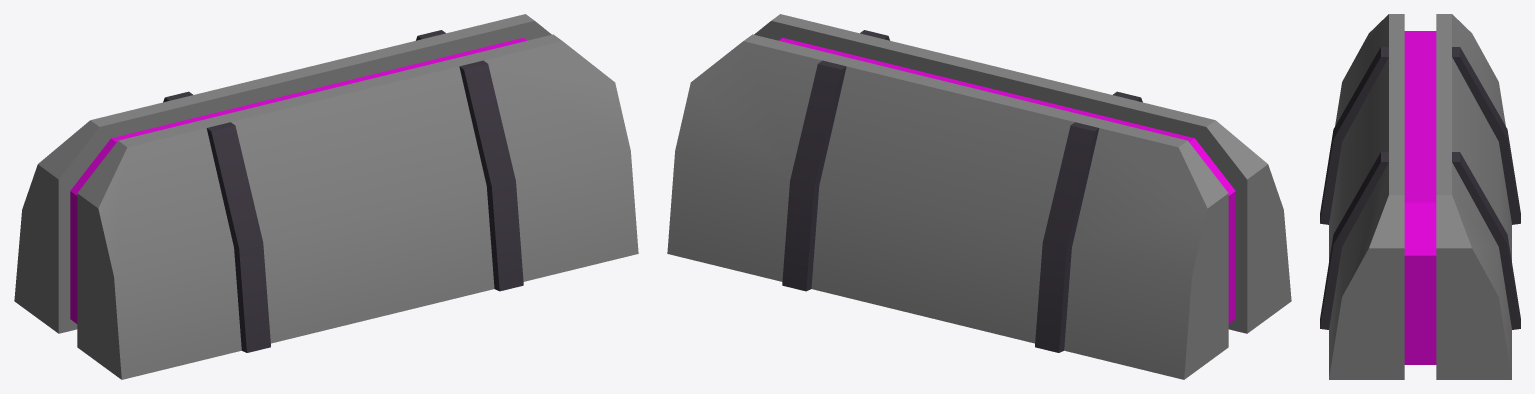
Rendered from Baricade.fbx.
The picture shows the model from 3 angles, left to right: view 1: azimuth 30°, elevation 25°; view 2: azimuth 150°, elevation 25°; view 3: azimuth 270°, elevation 25°; orthographic projection. The views are drawn at different scales.
Visible parts, largest first — view 1: Barried; view 2: Barried; view 3: Barried.
Boxes of the visible parts, left/top/right/bottom form: Barried: left=14, top=14, right=638, bottom=379; Barried: left=667, top=14, right=1291, bottom=379; Barried: left=1320, top=14, right=1520, bottom=379.
Size of the model in its own units: 312 by 114 by 123.
